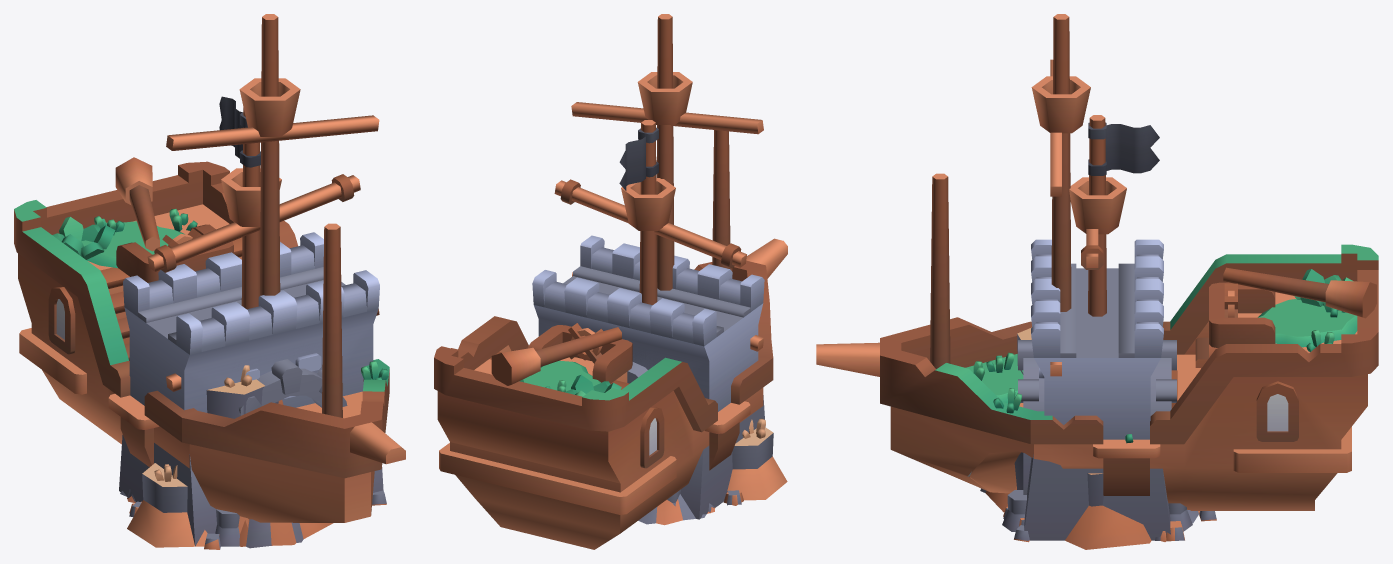
Rendered from reef-kit.glb.
The picture shows the model from 3 angles, left to right: view 1: azimuth 30°, elevation 25°; view 2: azimuth 150°, elevation 25°; view 3: azimuth 270°, elevation 25°; orthographic projection. The views are drawn at different scales.
Visible parts, largest first — view 1: ship-wreck, castle-gate, castle-wall, rocks-sand-a, mast, sail-a.001, sail-a, rocks-a, Group.002, Group.003, Group.004, rocks-b (+2 smaller); view 2: ship-wreck, castle-gate, mast, castle-wall, sail-a.001, Group.002, sail-a, rocks-sand-a, flag-c, Group.004, rocks-a, rocks-sand-b (+2 smaller); view 3: ship-wreck, castle-gate, mast, Group.002, rocks-sand-a, Group.004, castle-wall, flag-c, Group, sail-a, rocks-a, sail-a.001.
Boxes of the visible parts, x1,y1,x2,y2 form: ship-wreck: (14, 14, 405, 522); castle-gate: (119, 232, 383, 546); castle-wall: (185, 254, 323, 407); rocks-sand-a: (127, 365, 386, 547); mast: (221, 107, 281, 309); sail-a.001: (147, 174, 360, 272); sail-a: (166, 115, 379, 391); rocks-a: (127, 386, 386, 512); Group.002: (115, 157, 159, 251); Group.003: (52, 216, 115, 259); Group.004: (81, 221, 184, 267); rocks-b: (120, 491, 303, 549); ship-wreck: (434, 14, 787, 549); castle-gate: (532, 235, 764, 519); mast: (621, 120, 675, 304); castle-wall: (575, 251, 714, 369); sail-a.001: (554, 179, 746, 268); Group.002: (491, 327, 621, 385); sail-a: (571, 102, 763, 351); rocks-sand-a: (709, 418, 787, 513); flag-c: (619, 127, 658, 190); Group.004: (519, 360, 600, 391); rocks-a: (708, 433, 773, 511); rocks-sand-b: (656, 490, 743, 525); ship-wreck: (816, 14, 1378, 510); castle-gate: (1002, 239, 1192, 540); mast: (1069, 115, 1126, 316); Group.002: (1223, 267, 1376, 318); rocks-sand-a: (985, 327, 1216, 549); Group.004: (1258, 299, 1357, 347); castle-wall: (1031, 264, 1163, 378); flag-c: (1088, 122, 1159, 175); Group: (965, 354, 1023, 403); sail-a: (1050, 59, 1061, 376); rocks-a: (1009, 334, 1216, 540); sail-a.001: (1081, 229, 1103, 269).
Size of the model in its own units: 5.11 by 10.3 by 10.6.
1 material, 1 textured.
